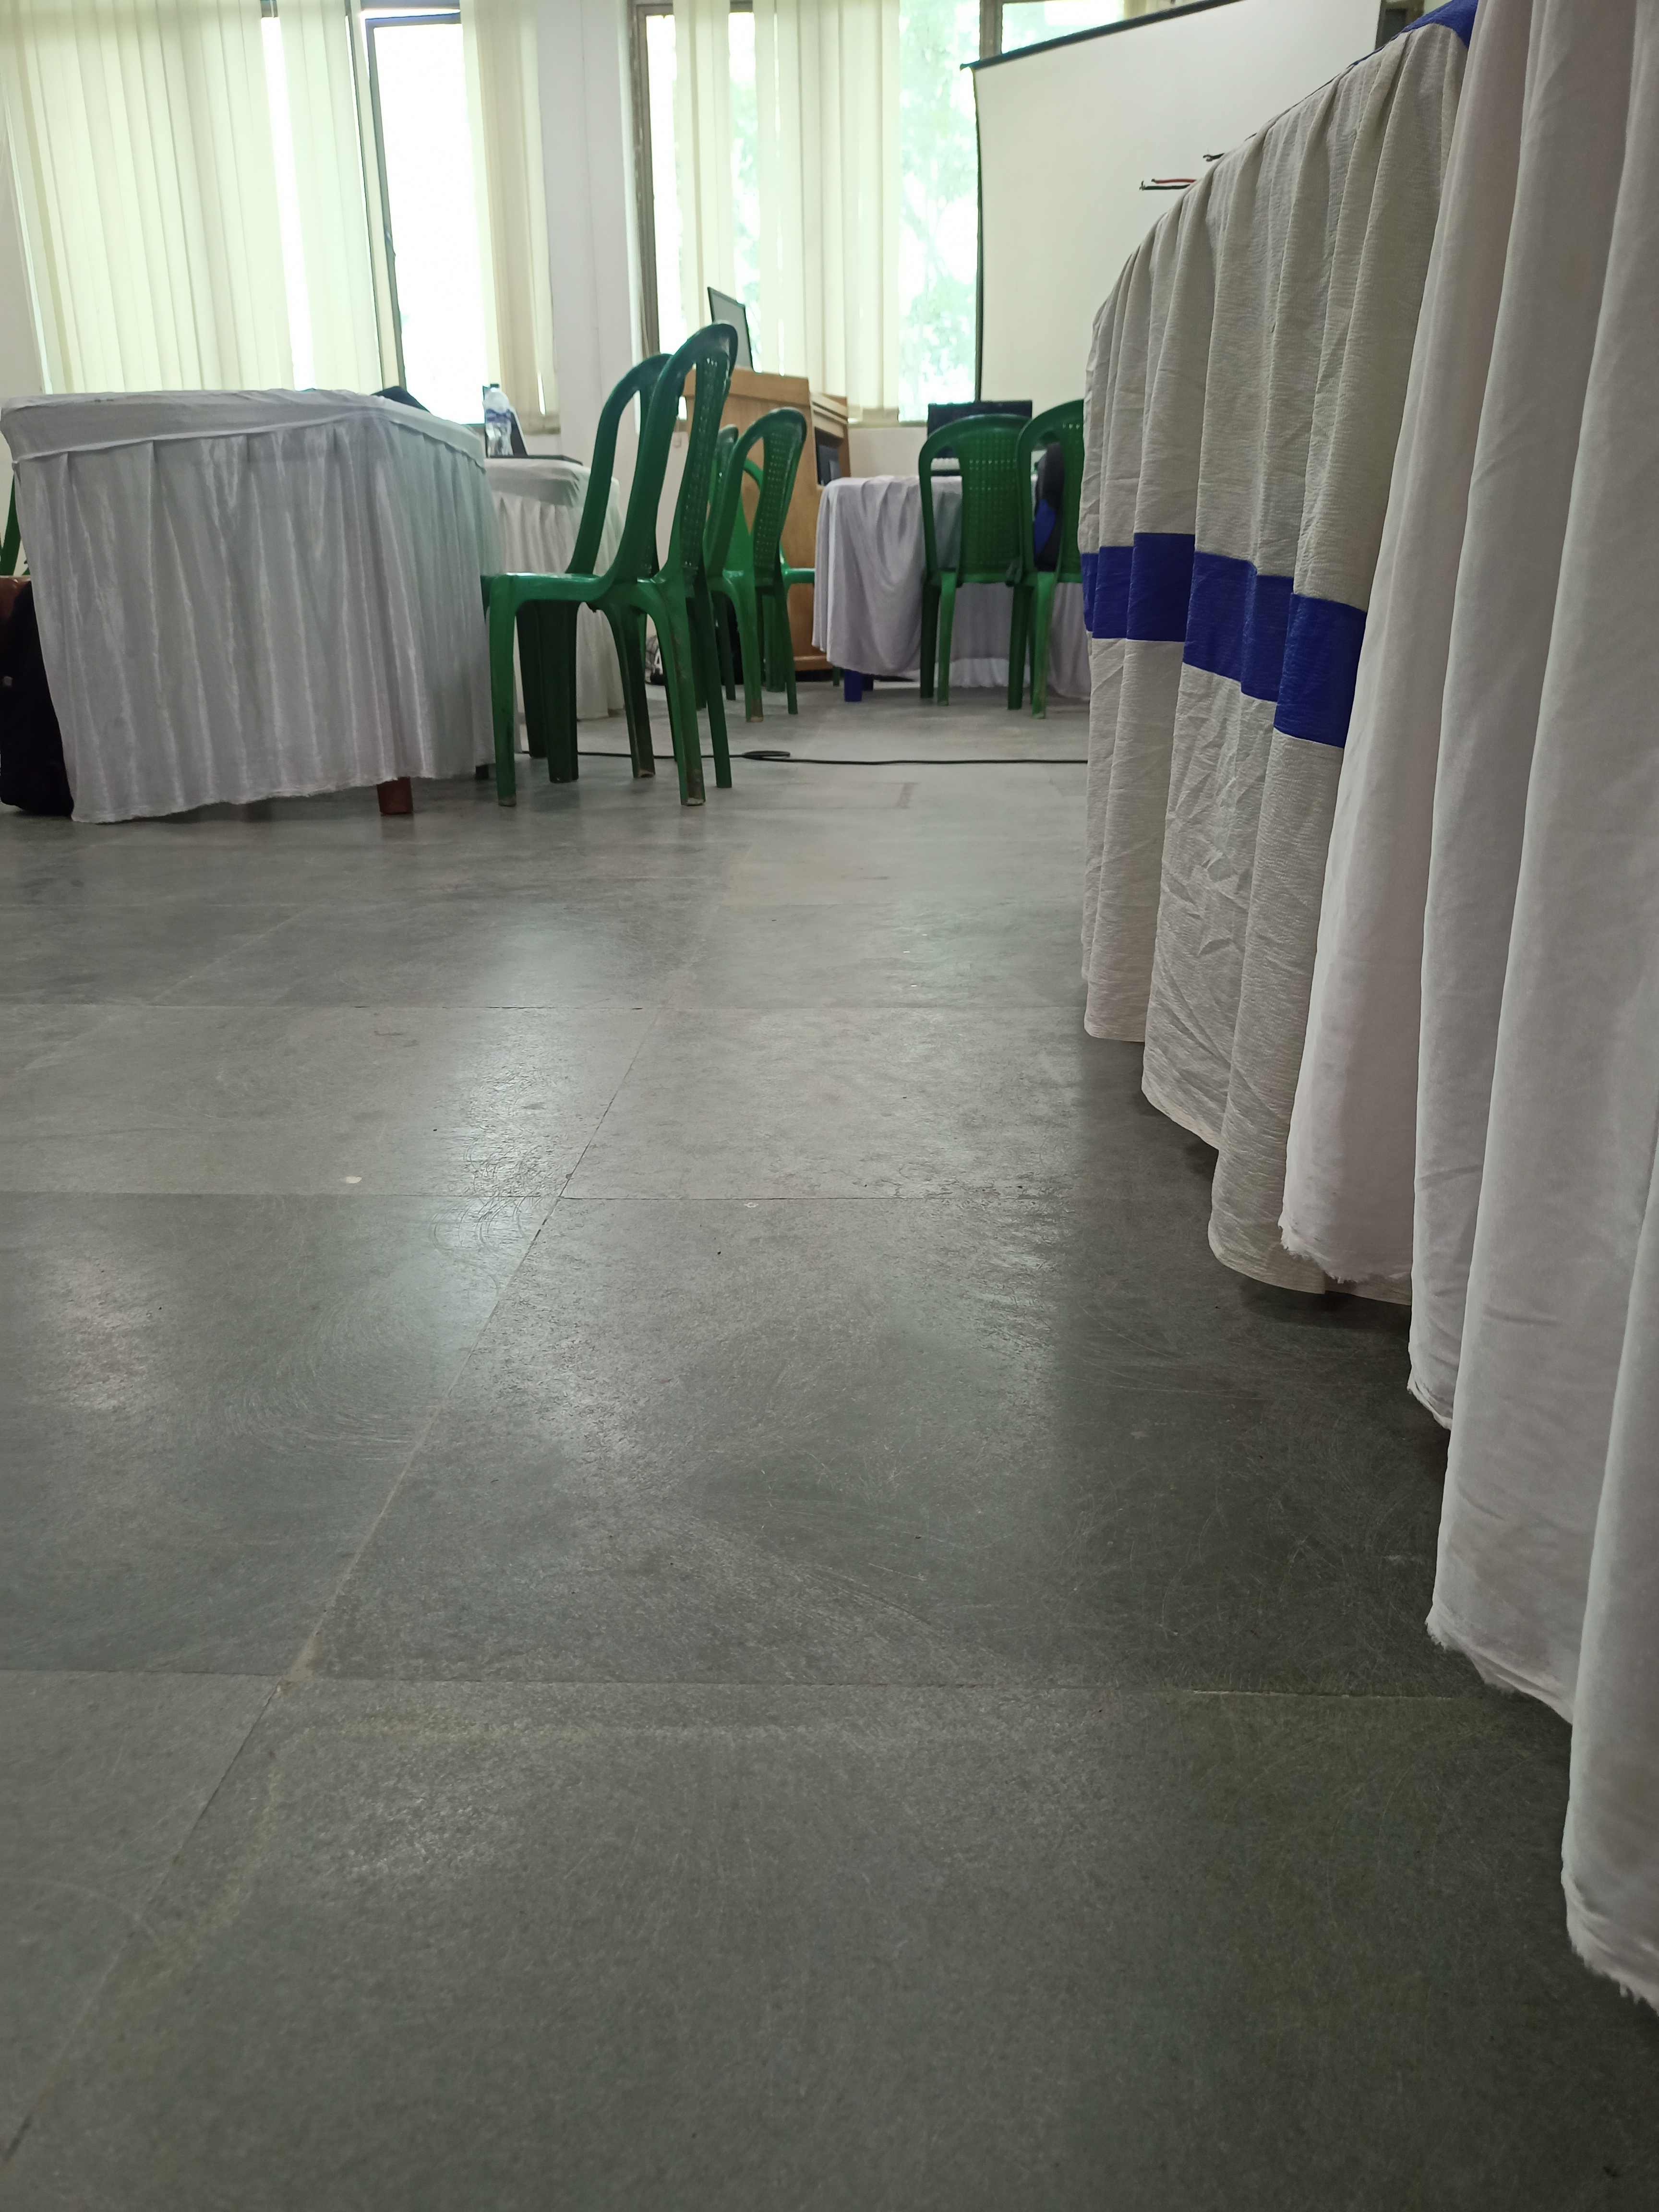Obstacle: (1101, 275, 1617, 1951)
Path: (33, 827, 1143, 2033)
